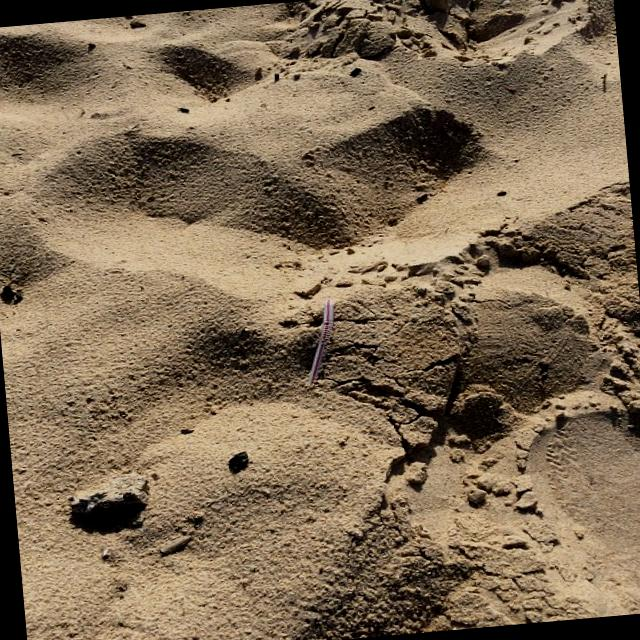Recycle: (303, 292, 344, 389)
